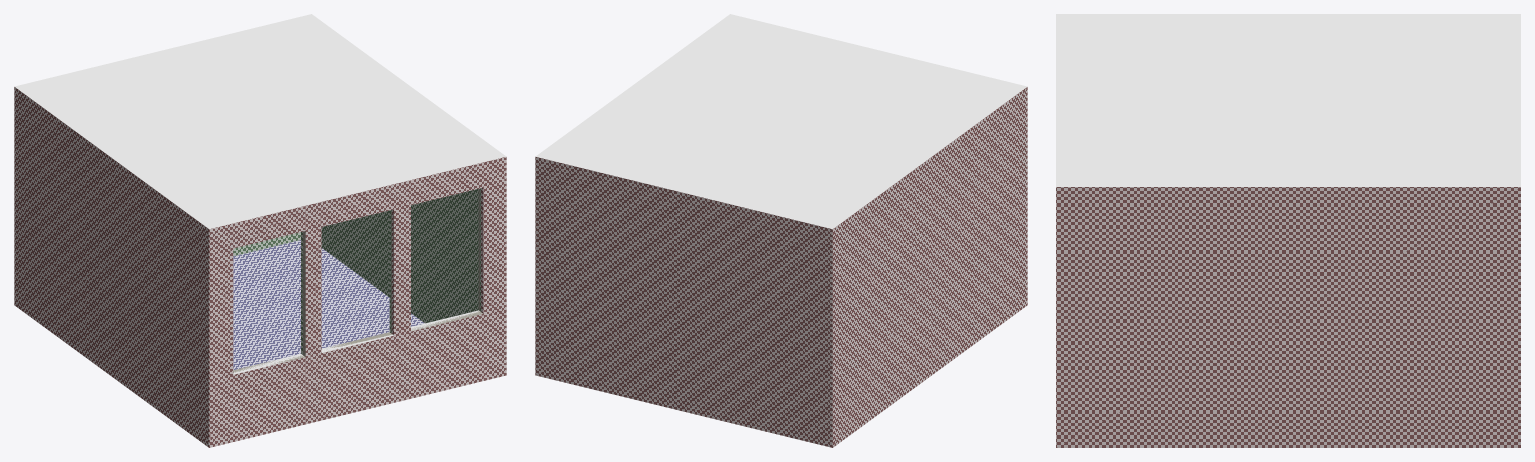
The model's file is WindowedRoom3p5x4.obj.
3 views of the same model, side by side, from view 1: azimuth 30°, elevation 25°; view 2: azimuth 150°, elevation 25°; view 3: azimuth 270°, elevation 25° (orthographic). The views are drawn at different scales.
Visible parts, largest first — view 1: room_5_27, wall_4_22, wall_3_16, room_5_26, wall_2_11, wall_3_17, wall_2_12, wall_4_24, wall_2_13, wall_4_25, wall_3_18, wall_1_6 (+5 smaller); view 2: wall_1_4, room_5_27, wall_4_22, wall_2_12, wall_4_24, wall_2_13, wall_4_25, wall_1_6, wall_3_18, wall_1_7, wall_3_19; view 3: wall_2_10, room_5_27, wall_4_24, wall_2_12, wall_4_25, wall_2_13, wall_1_6, wall_3_18, wall_1_7, wall_3_19.
Boxes of the visible parts, x1,y1,x2,y2 form: room_5_27: (27, 19, 493, 223); wall_4_22: (14, 87, 209, 447); wall_3_16: (209, 156, 506, 447); room_5_26: (233, 240, 424, 370); wall_2_11: (321, 189, 478, 323); wall_3_17: (234, 188, 480, 371); wall_2_12: (310, 14, 505, 156); wall_4_24: (15, 86, 210, 228); wall_2_13: (308, 17, 499, 155); wall_4_25: (21, 87, 212, 226); wall_3_18: (209, 156, 505, 228); wall_1_6: (15, 14, 311, 87); wall_1_4: (535, 156, 832, 447); room_5_27: (548, 19, 1014, 223); wall_4_22: (832, 87, 1027, 447); wall_2_12: (536, 14, 731, 156); wall_4_24: (831, 86, 1026, 228); wall_2_13: (542, 17, 733, 155); wall_4_25: (829, 87, 1020, 226); wall_1_6: (536, 156, 832, 228); wall_3_18: (730, 14, 1026, 87); wall_1_7: (542, 155, 830, 226); wall_3_19: (732, 16, 1020, 87); wall_2_10: (1056, 187, 1520, 447); room_5_27: (1067, 18, 1509, 182); wall_4_24: (1056, 14, 1520, 16); wall_2_12: (1057, 184, 1519, 186); wall_4_25: (1062, 16, 1514, 18); wall_2_13: (1062, 182, 1514, 184); wall_1_6: (1515, 14, 1520, 186); wall_3_18: (1056, 14, 1061, 186); wall_1_7: (1510, 16, 1515, 184); wall_3_19: (1061, 16, 1066, 184).
Bounding box in the file's own units: 370 × 260 × 420.
